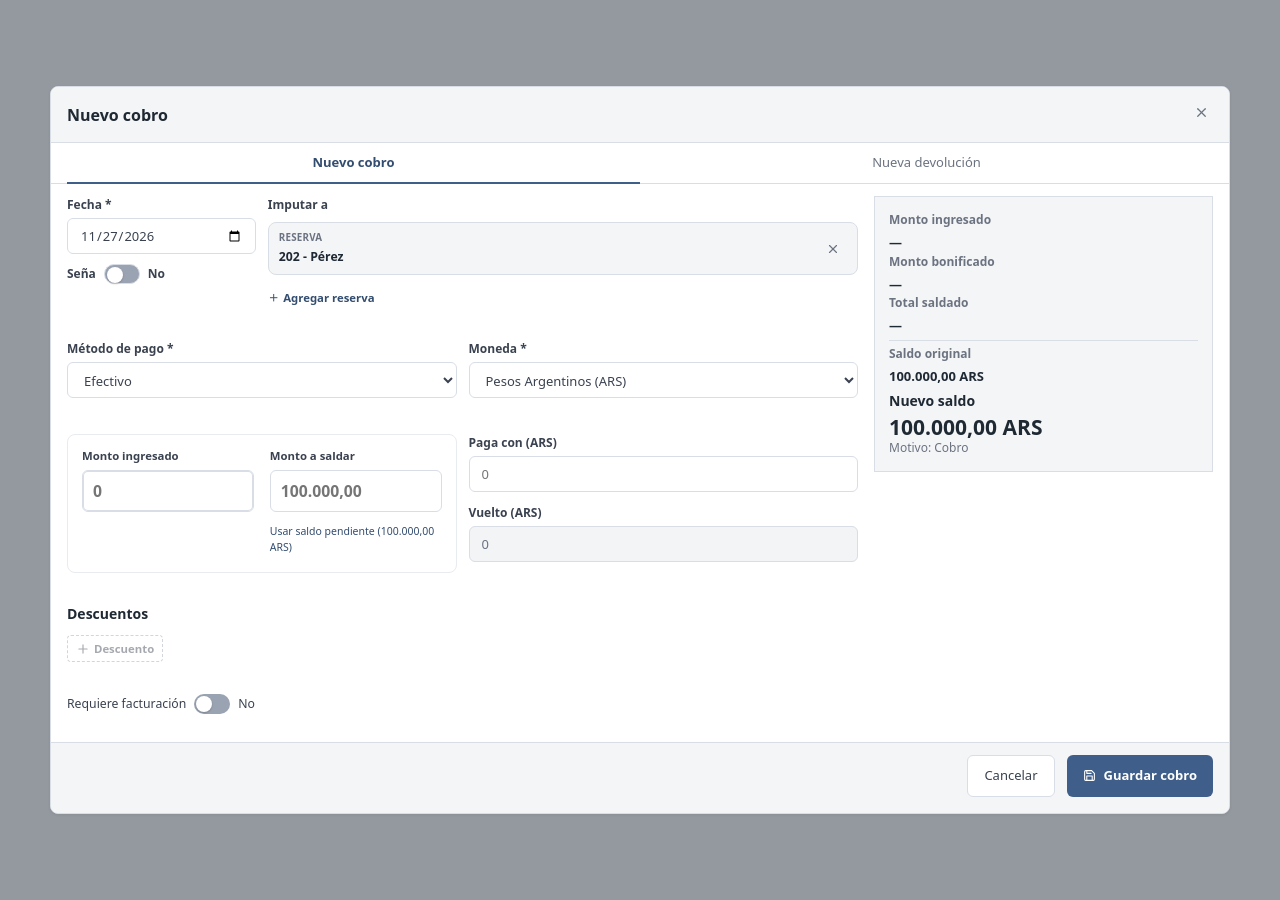
Test: CobroForm facturación › opcional MANUAL (default-off) no se auto-aplica; entra con + Descuento y sale con X
Type "9000" into the number field labelled "Monto ingresado" at (168, 492), box x1=82 y1=470 x2=254 y2=512
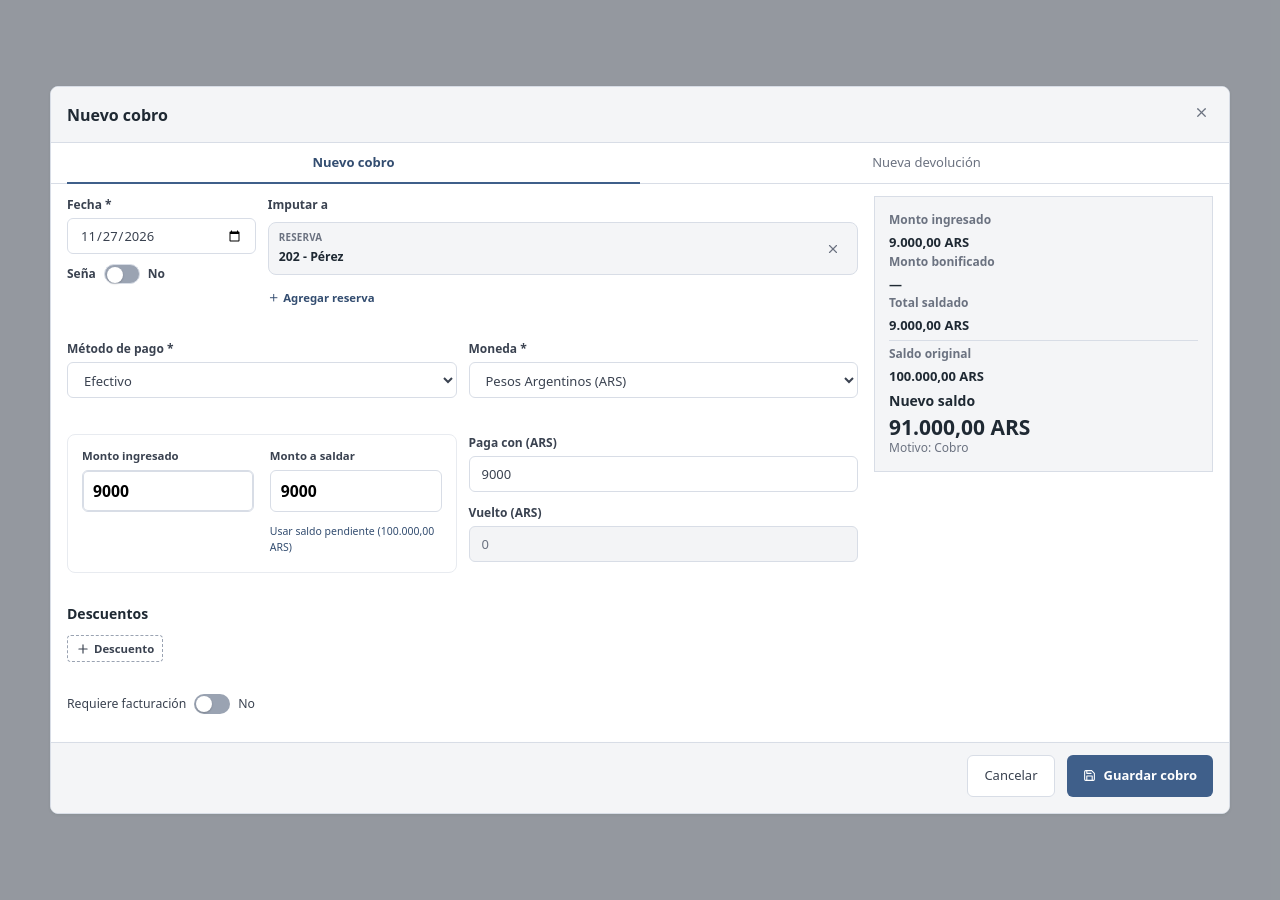
Expected: the text "Cortesía off" is not shown
Expected: the button with test id "payment-add-optional-promo" is enabled
Click the button with test id "payment-add-optional-promo" at (115, 649), box x1=67 y1=635 x2=163 y2=662
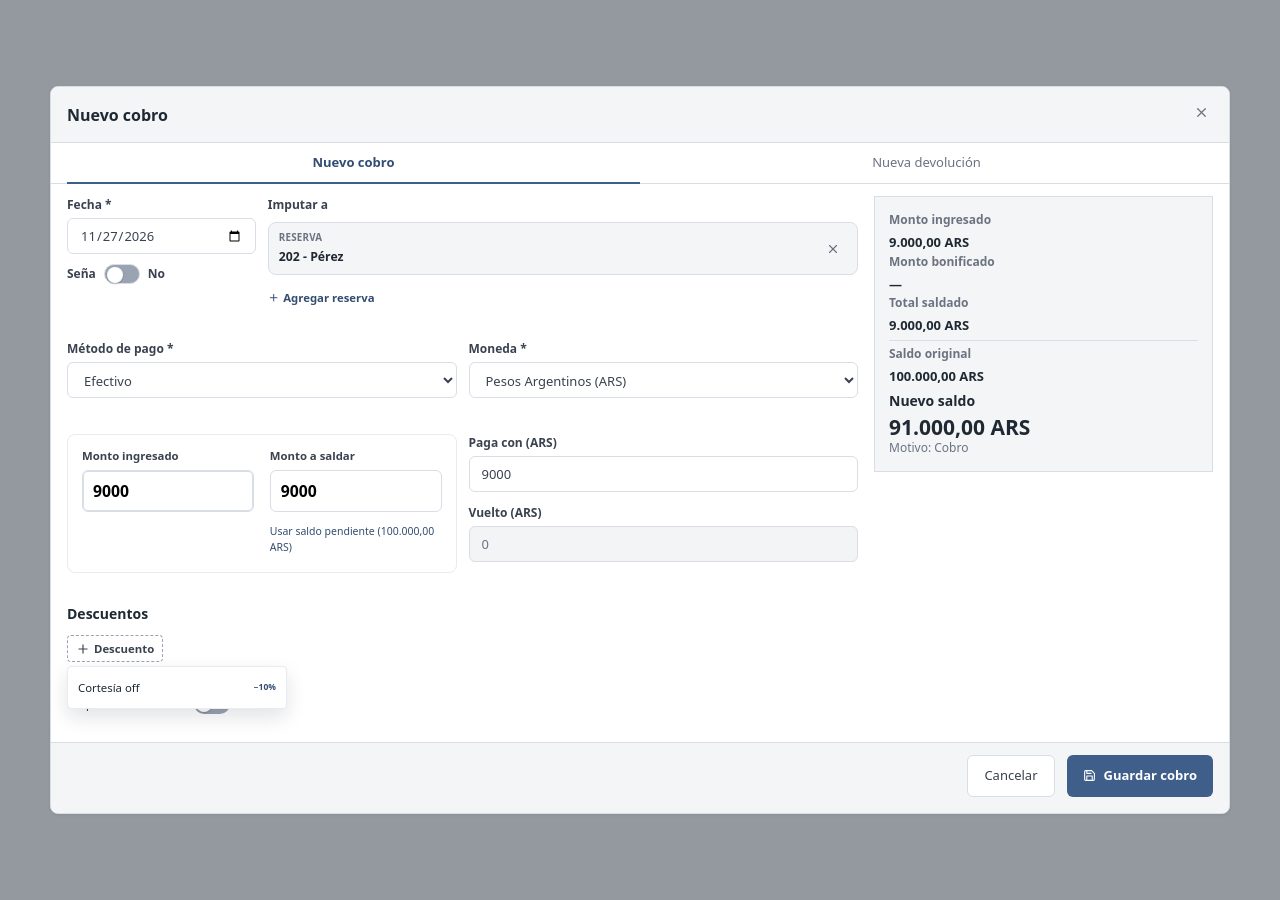
Click the button "Cortesía off −10%" at (177, 688), box x1=68 y1=671 x2=286 y2=704
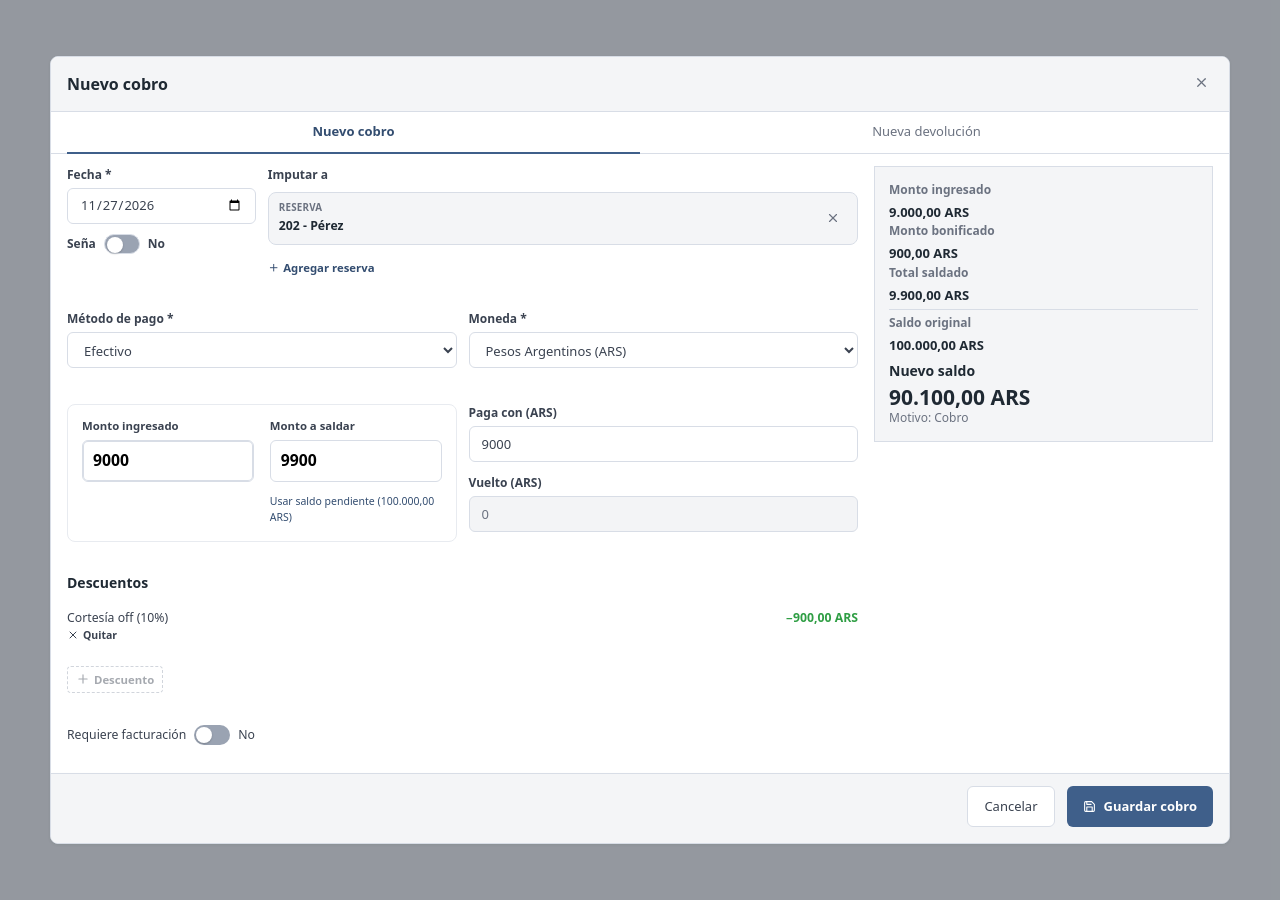
Expected: the message "Cortesía off (10%) −900,00 ARS Quitar" is shown, x1=67 y1=605 x2=858 y2=646
Expected: the text "Cortesía off (10%)" is shown, x1=67 y1=609 x2=168 y2=627
Expected: the button with test id "payment-promo-remove-30" is shown
Click the button with test id "payment-promo-remove-30" at (92, 635), box x1=67 y1=629 x2=117 y2=642
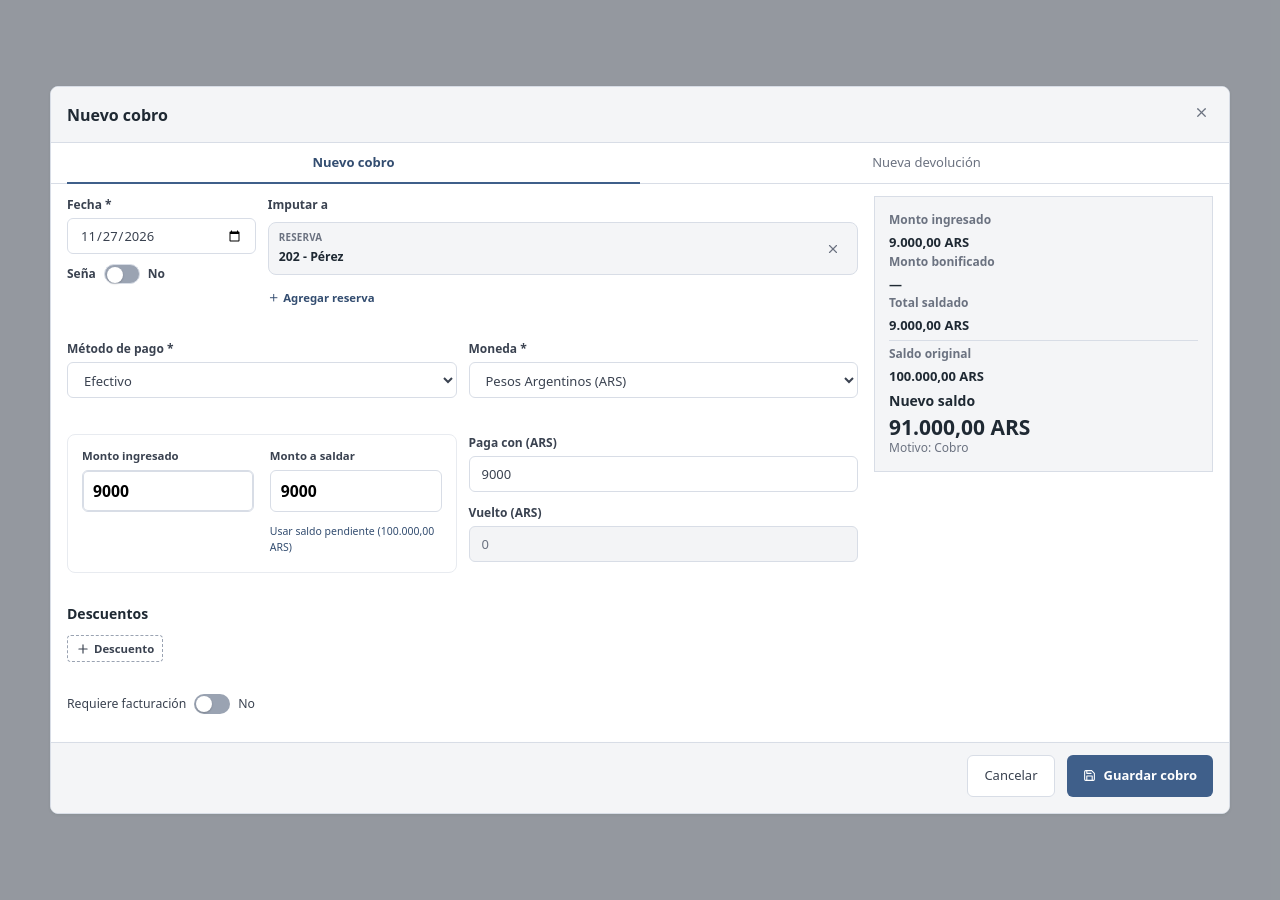
Expected: the message with test id "payment-applied-promos" is gone
Expected: the text "Cortesía off" is gone
